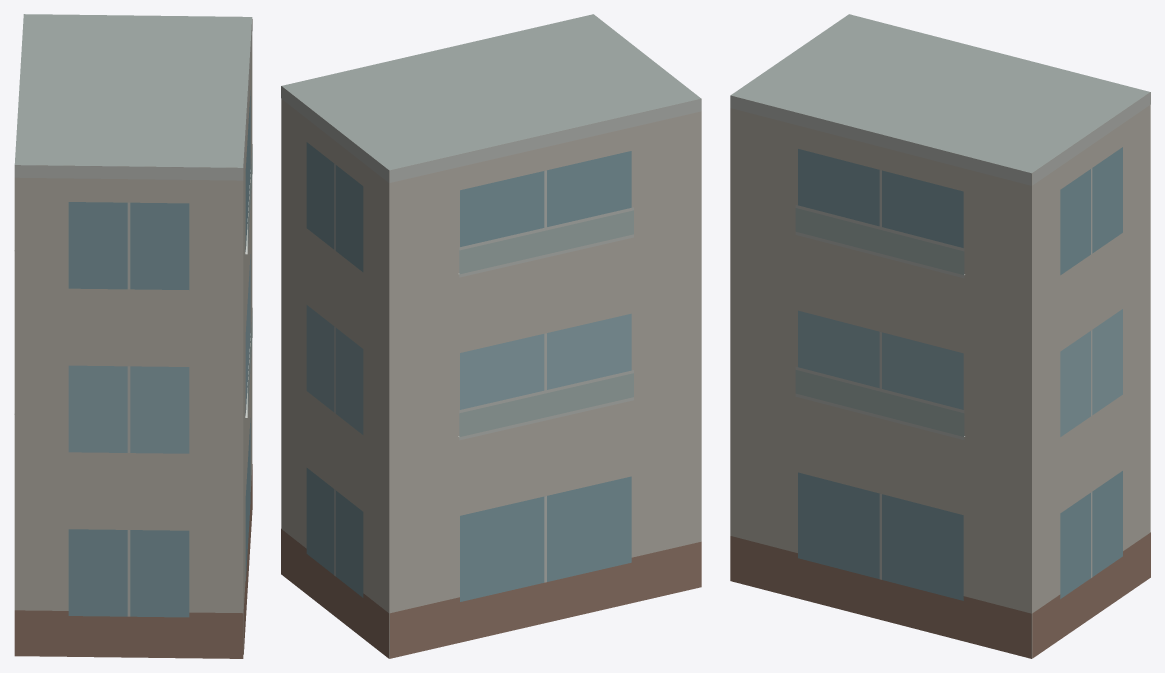
Rendered from survey-upis-32963315.glb.
The picture shows the model from 3 angles, left to right: view 1: azimuth 30°, elevation 25°; view 2: azimuth 150°, elevation 25°; view 3: azimuth 270°, elevation 25°; orthographic projection.
Visible parts, largest first — view 1: survey-upis-32963315.tmp; view 2: survey-upis-32963315.tmp; view 3: survey-upis-32963315.tmp.
Boxes of the visible parts, x1,y1,x2,y2 form: survey-upis-32963315.tmp: [14, 14, 252, 658]; survey-upis-32963315.tmp: [281, 14, 701, 658]; survey-upis-32963315.tmp: [730, 14, 1150, 658].
Bounding box in the file's own units: 6.62 × 9.4 × 7.38.
